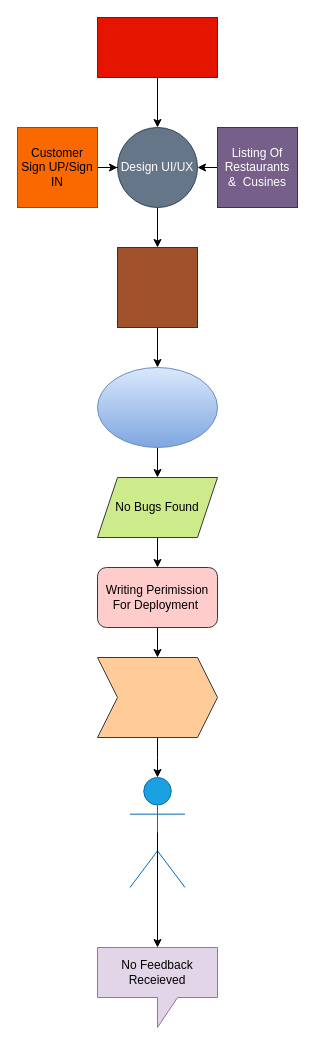
Some shapes in this 315 by 1045 pixel diagram are drawn without their labels. Here are the shapes that lost their labels. From the top down, the centre of each, then its label:
At pixel 157 47: "ASK Foodies".
At pixel 157 287: "Checkout Page & RTS".
At pixel 157 407: "Compiling Into Apk".
At pixel 157 697: "Pushing The APK To Cloud Or Appstore".
